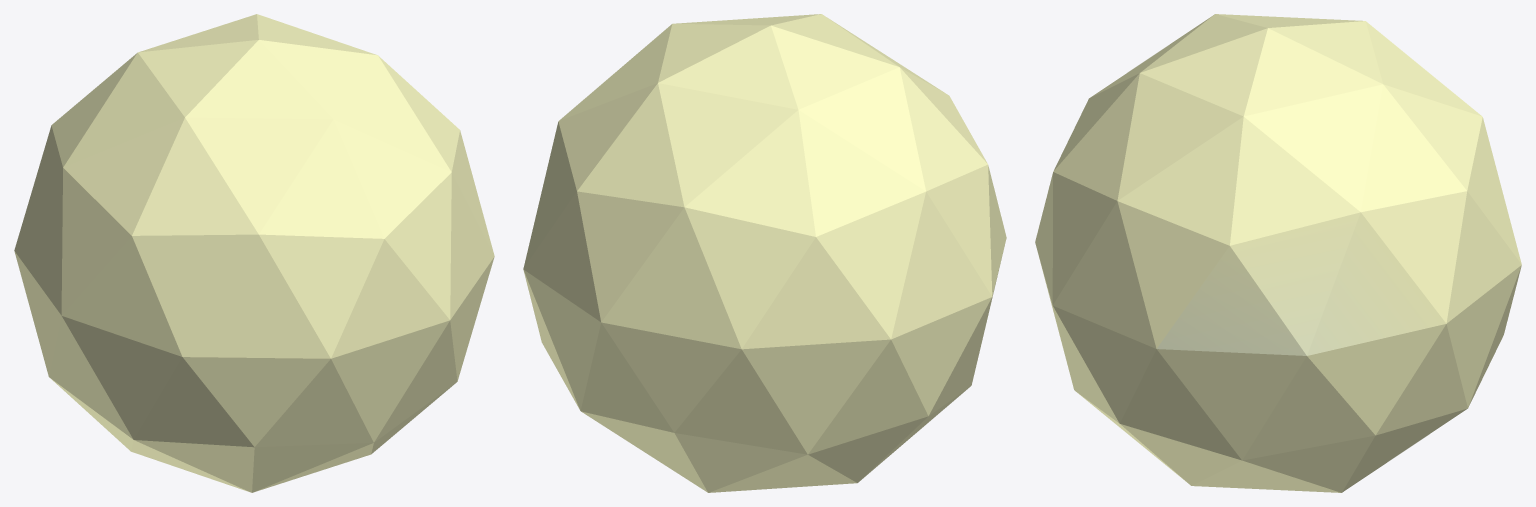
The model's file is pn_moon_01.gltf.
3 views of the same model, side by side, from view 1: azimuth 30°, elevation 25°; view 2: azimuth 150°, elevation 25°; view 3: azimuth 270°, elevation 25° (orthographic). The views are drawn at different scales.
Parts seen in each view (by area): view 1: moon_01; view 2: moon_01; view 3: moon_01.
Part boxes in pixels (x1=…): moon_01: x1=14, y1=14, x2=494, y2=492; moon_01: x1=523, y1=14, x2=1006, y2=492; moon_01: x1=1035, y1=14, x2=1521, y2=492.
Bounding box in the file's own units: 0.2768 × 0.2784 × 0.2729.
